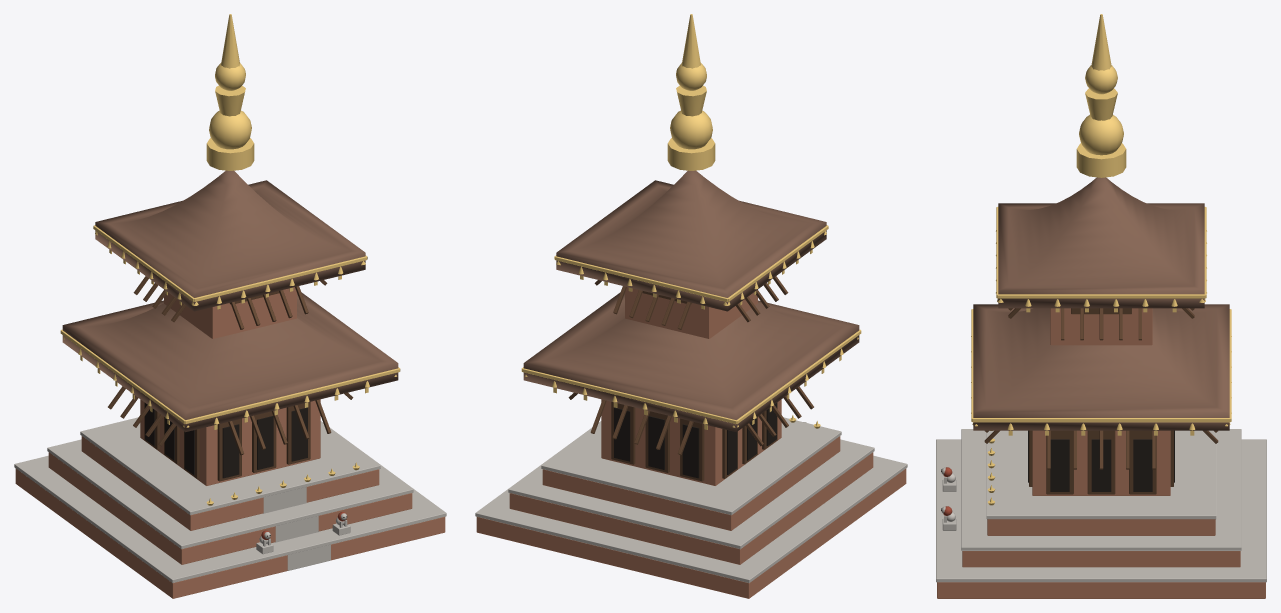
File: pagoda2.glb
3 views of the same model, side by side, from view 1: azimuth 30°, elevation 25°; view 2: azimuth 150°, elevation 25°; view 3: azimuth 270°, elevation 25° (orthographic). The views are drawn at different scales.
Visible parts, largest first — view 1: pagoda2; view 2: pagoda2; view 3: pagoda2.
Part boxes in pixels (bbox=[...]): pagoda2: bbox=[14, 14, 446, 598]; pagoda2: bbox=[475, 14, 907, 598]; pagoda2: bbox=[936, 14, 1266, 598].
Bounding box in the file's own units: 1.01 × 1.73 × 1.01.
